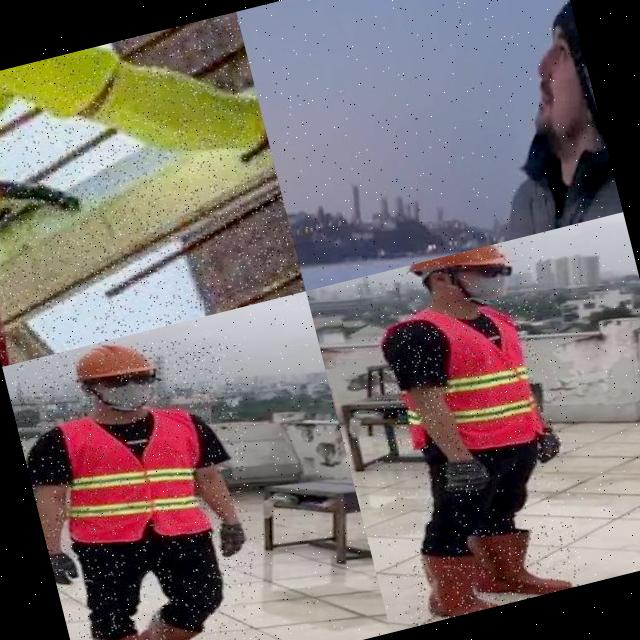boots: (458, 504, 592, 610), (397, 525, 531, 626), (122, 593, 220, 640), (79, 623, 167, 640)
helmet: (61, 328, 168, 401), (402, 240, 514, 290)
vest: (352, 276, 566, 478), (0, 37, 177, 268), (32, 378, 238, 570)
